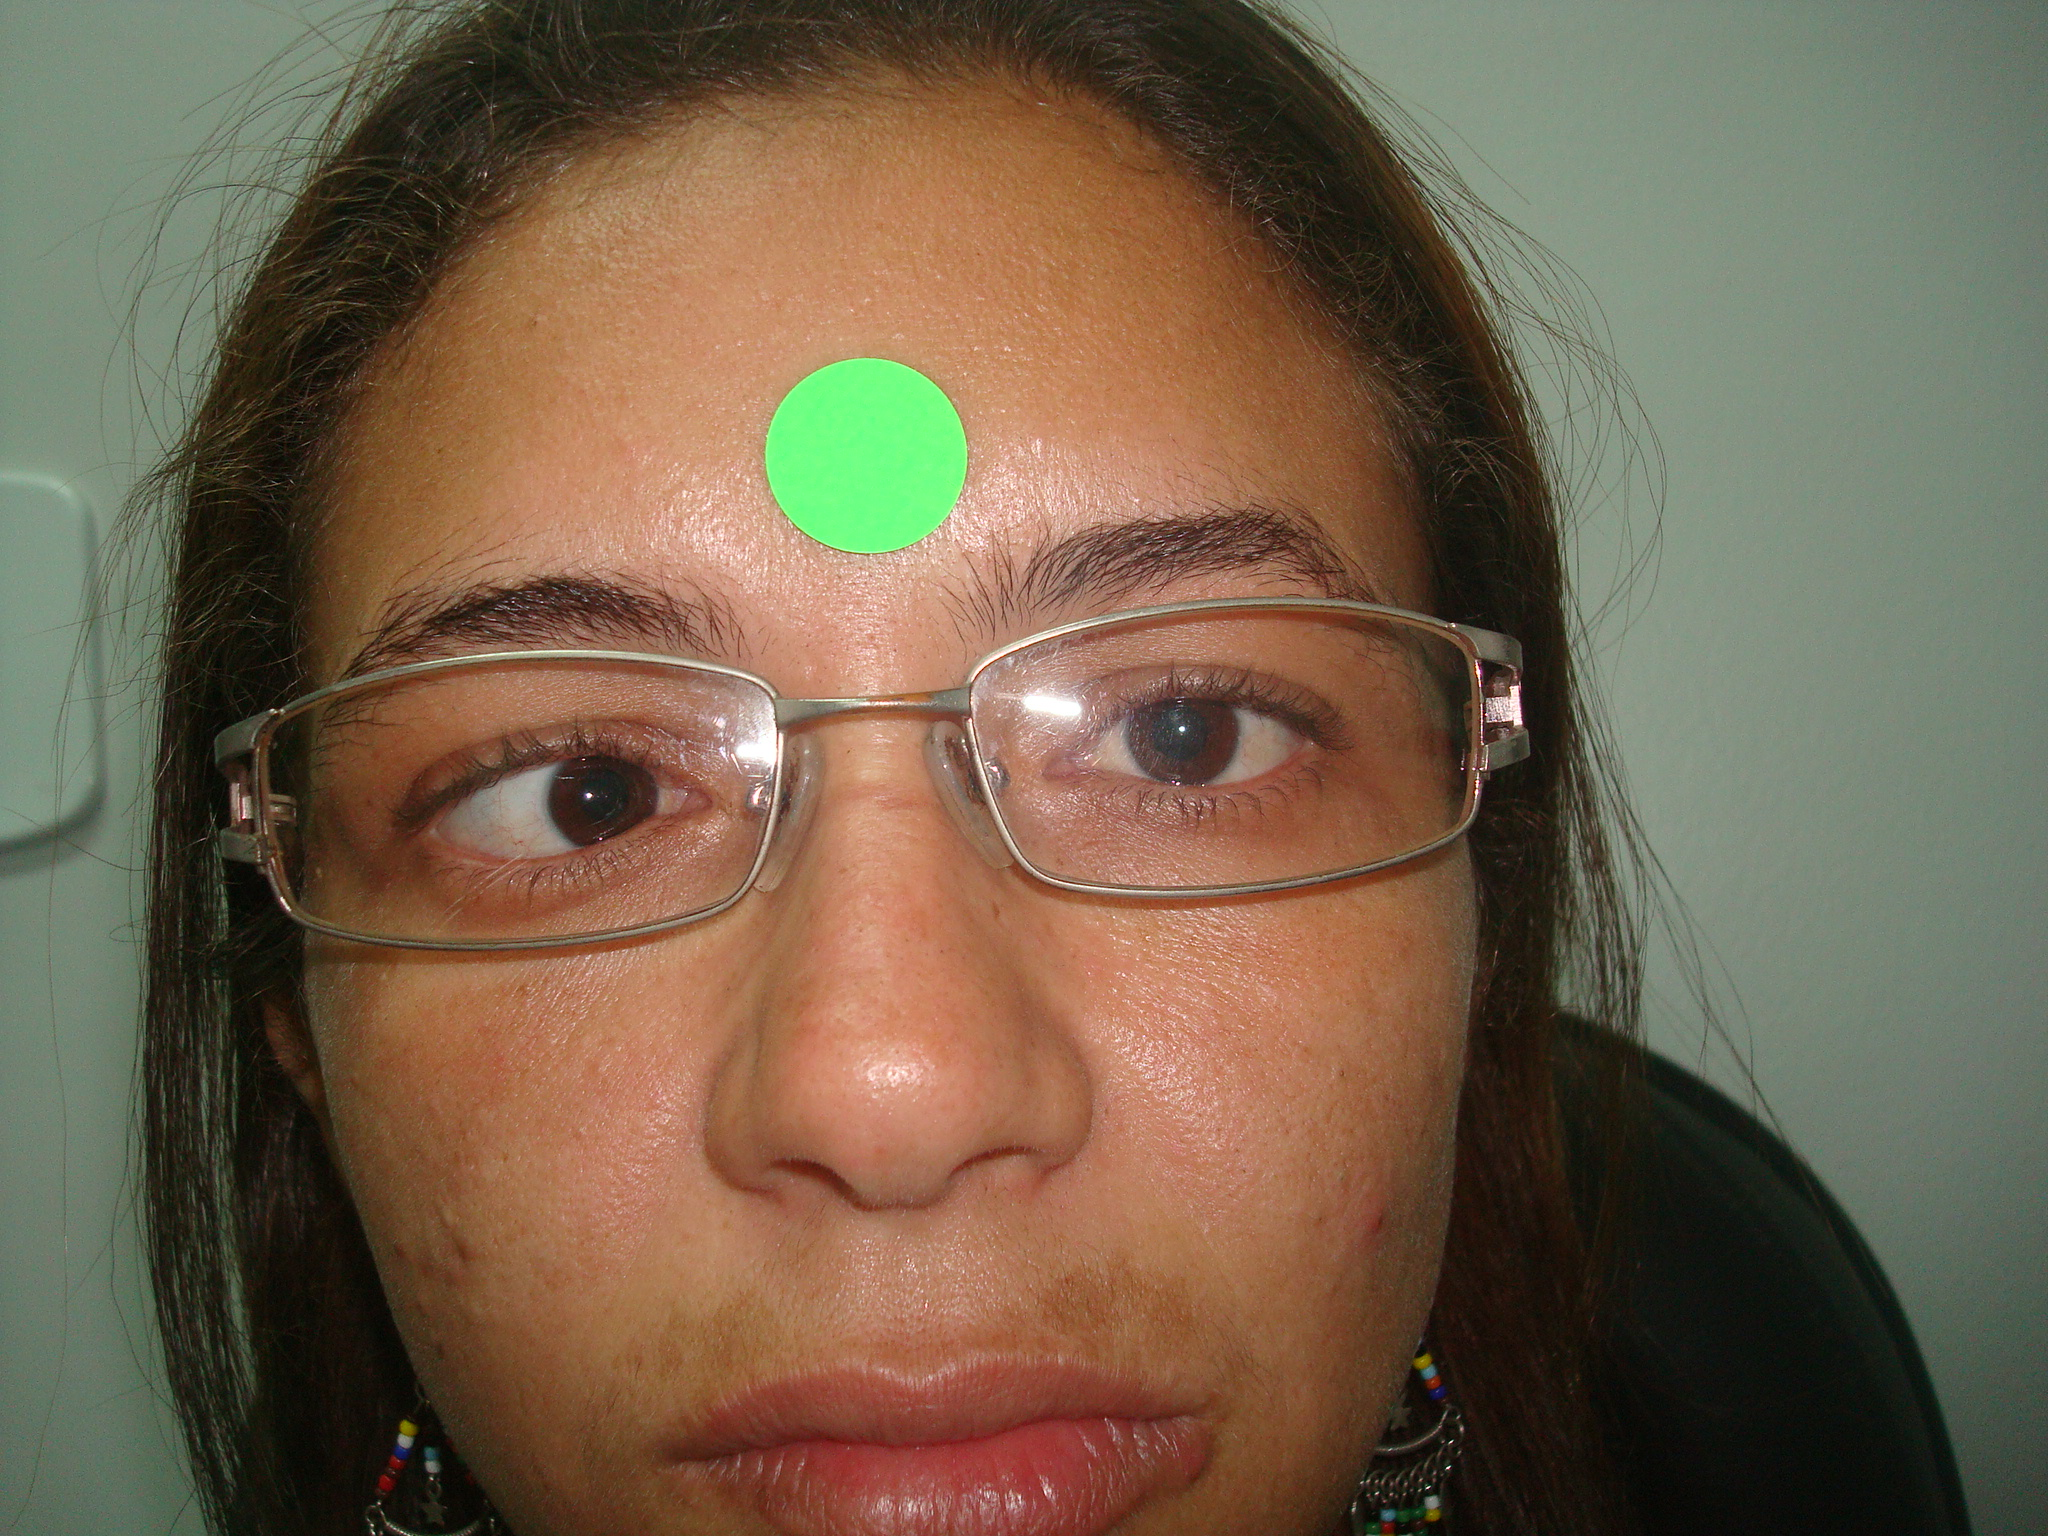flash: (581, 786, 597, 805), (1176, 723, 1188, 736)
limbo: (1119, 684, 1238, 783), (548, 744, 658, 845)
